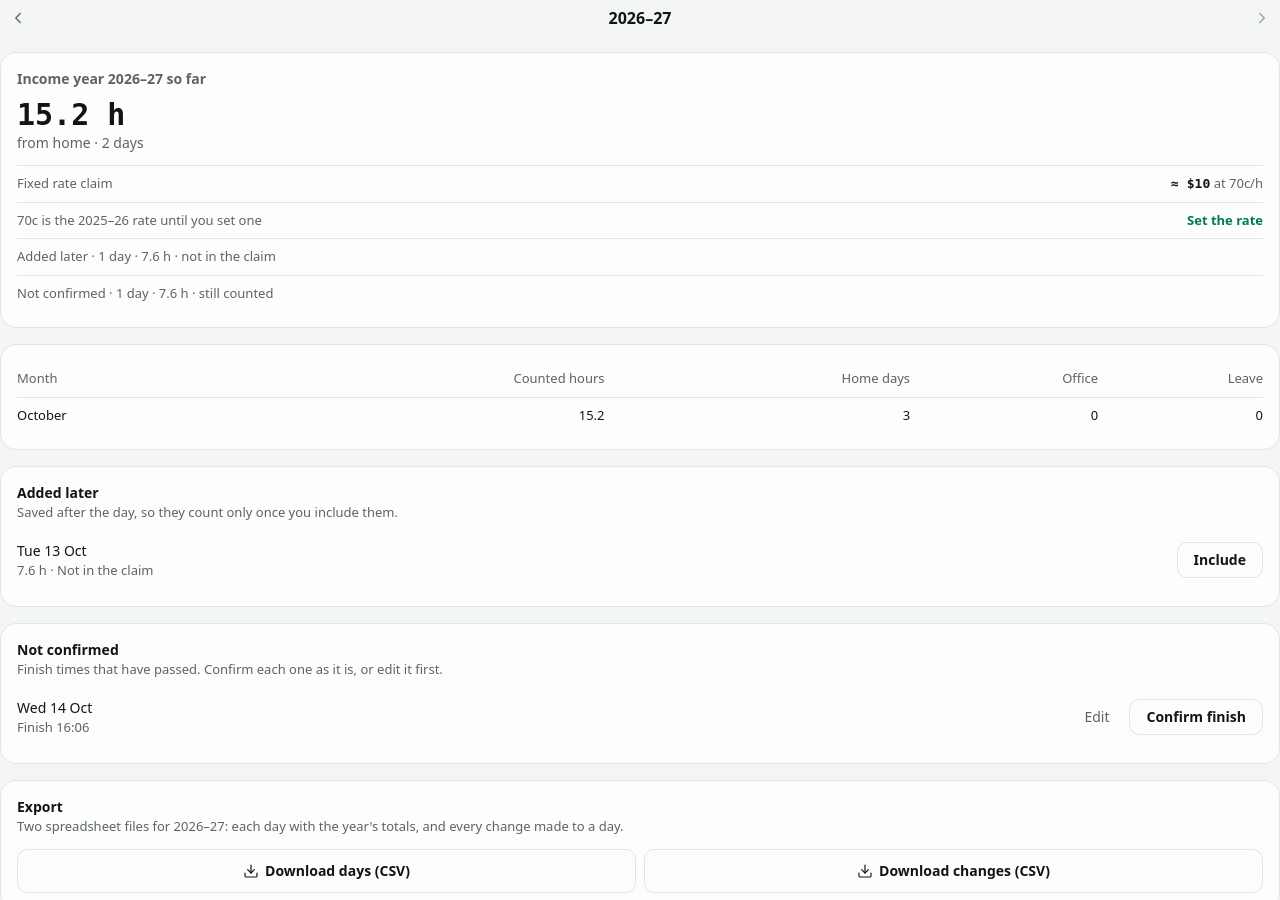
Test: YearTab › does not step back before 2020–21, the first year with a fixed rate
Click the button named "Previous income year". click: (18, 18)
box: x1=0 y1=0 x2=36 y2=36
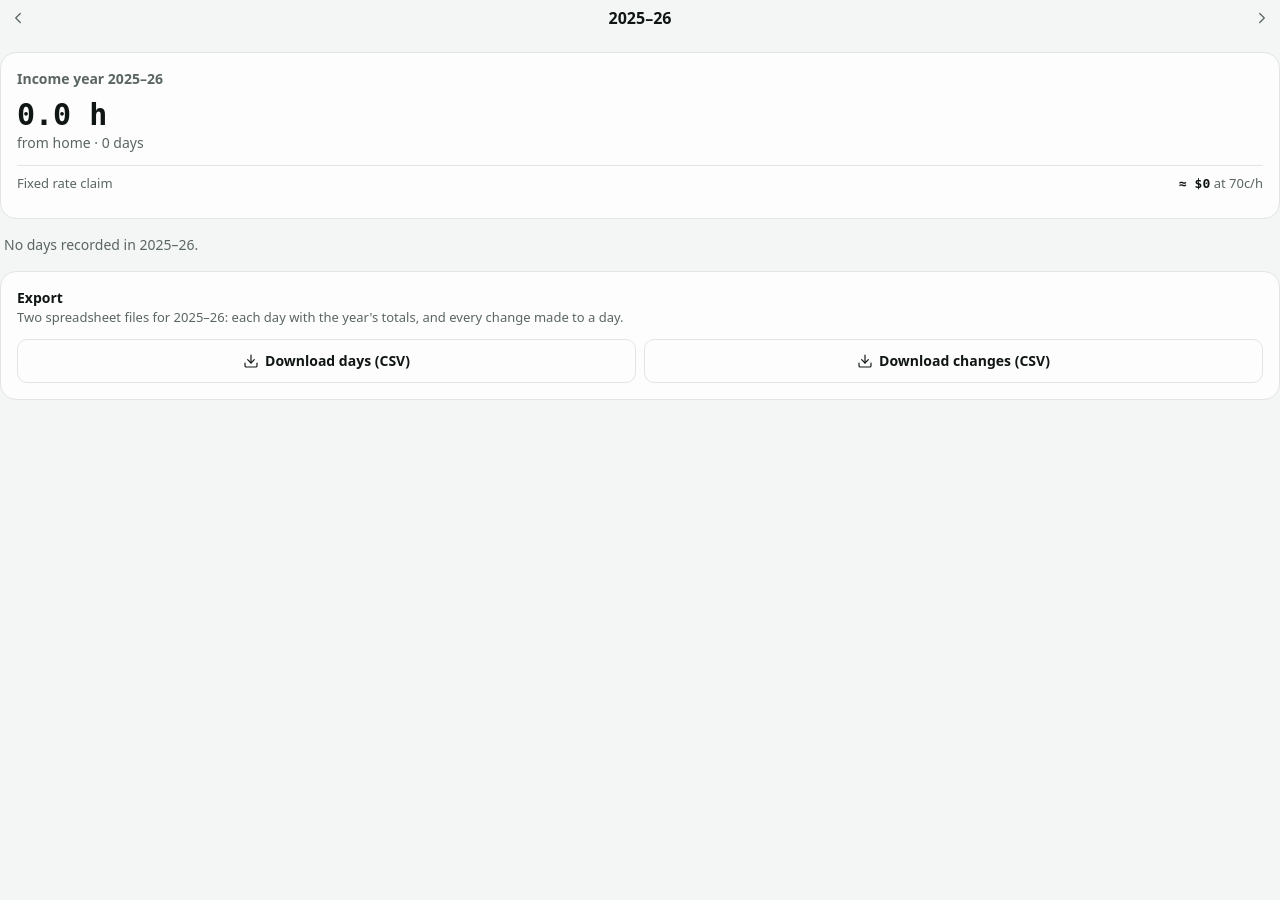
Click the button named "Previous income year". click: (18, 18)
box: x1=0 y1=0 x2=36 y2=36
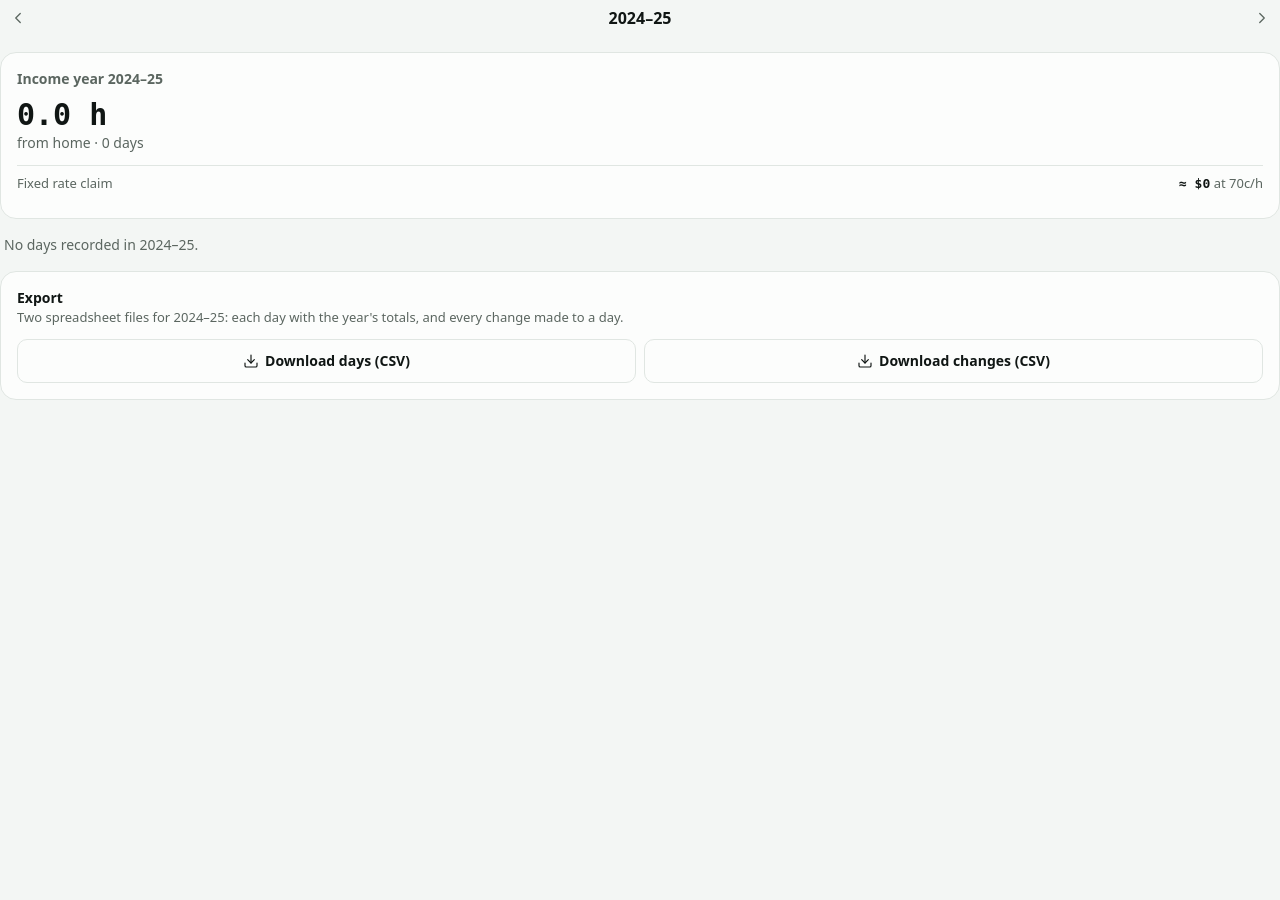
Click the button named "Previous income year". click: (18, 18)
box: x1=0 y1=0 x2=36 y2=36
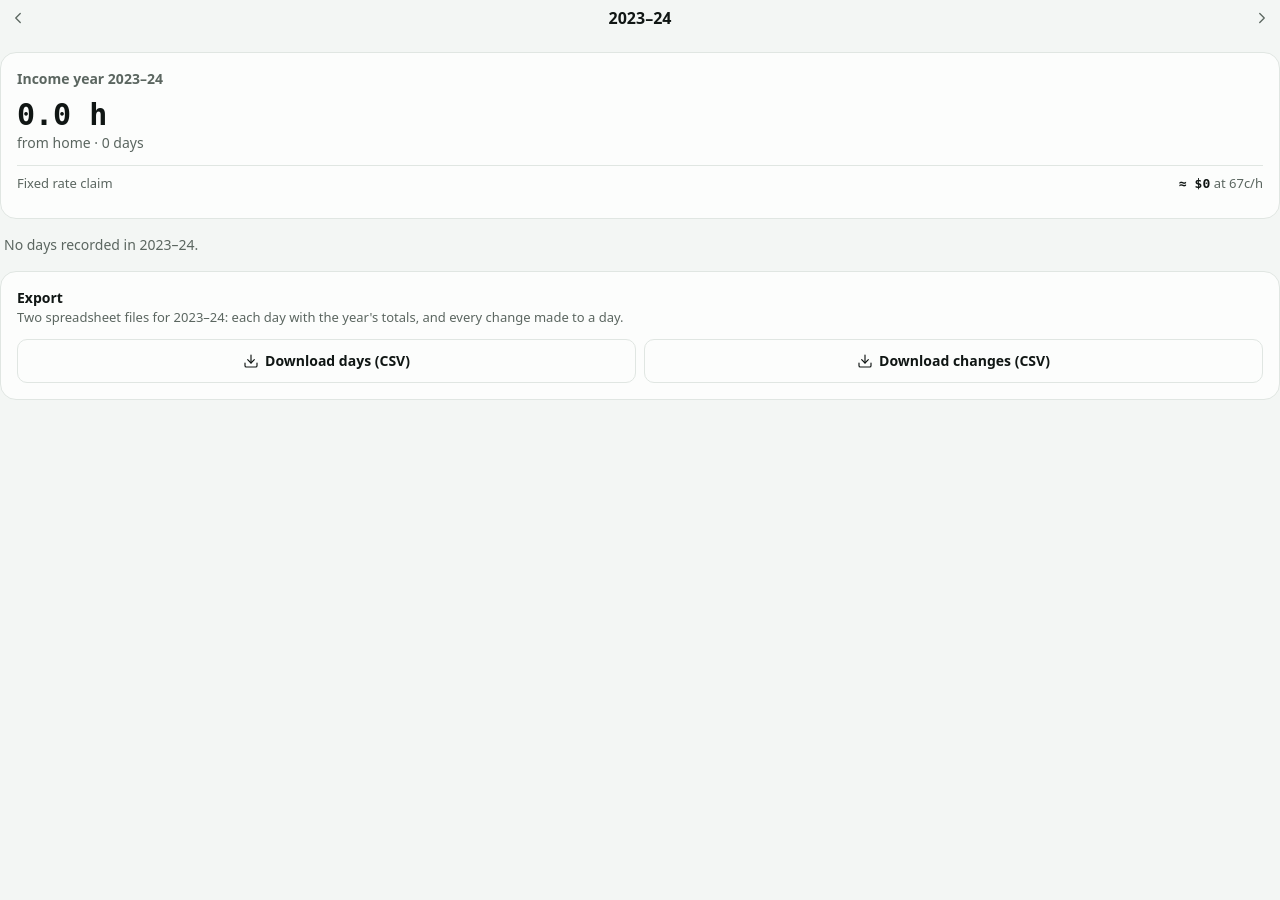
Click the button named "Previous income year". click: (18, 18)
box: x1=0 y1=0 x2=36 y2=36
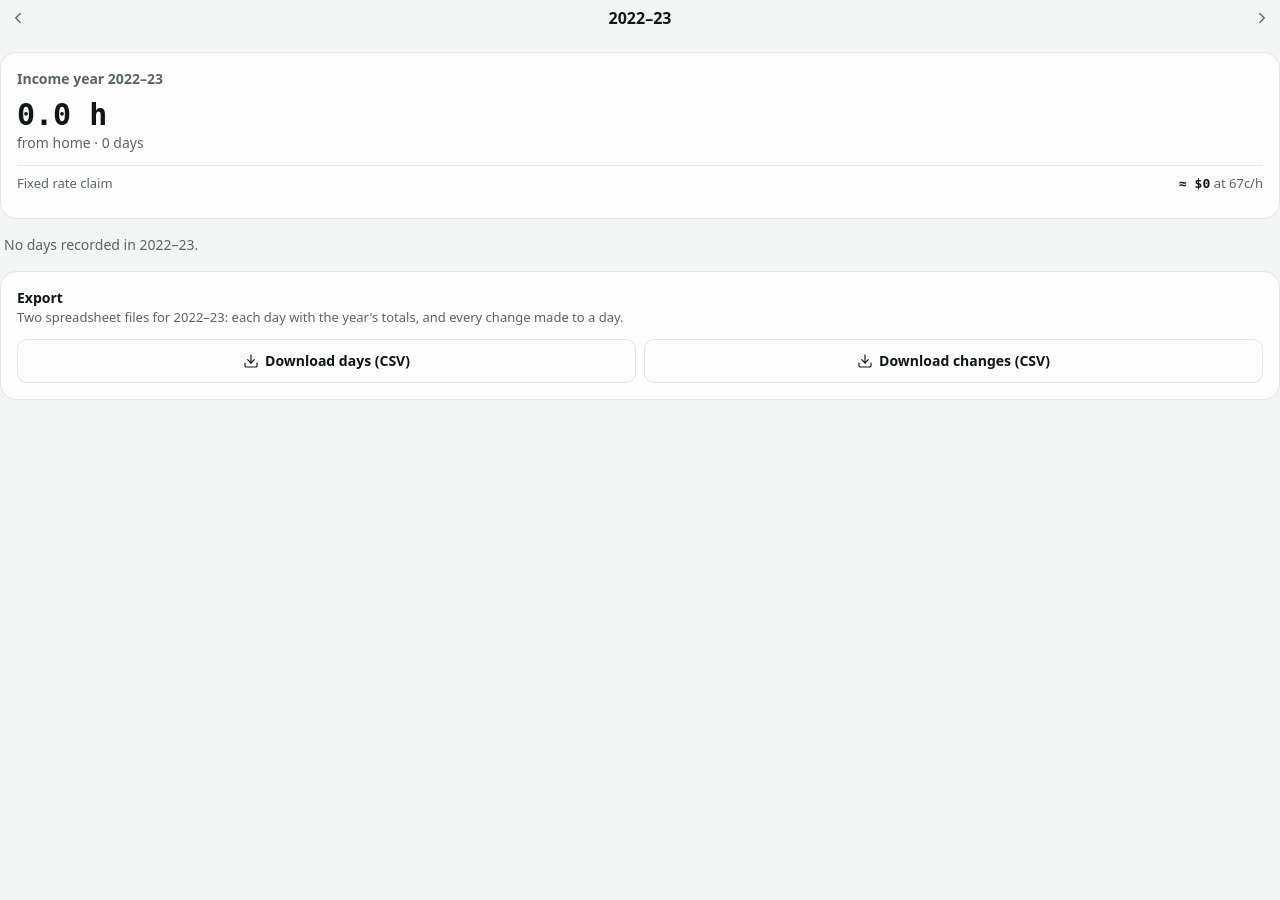
Click the button named "Previous income year". click: (18, 18)
box: x1=0 y1=0 x2=36 y2=36
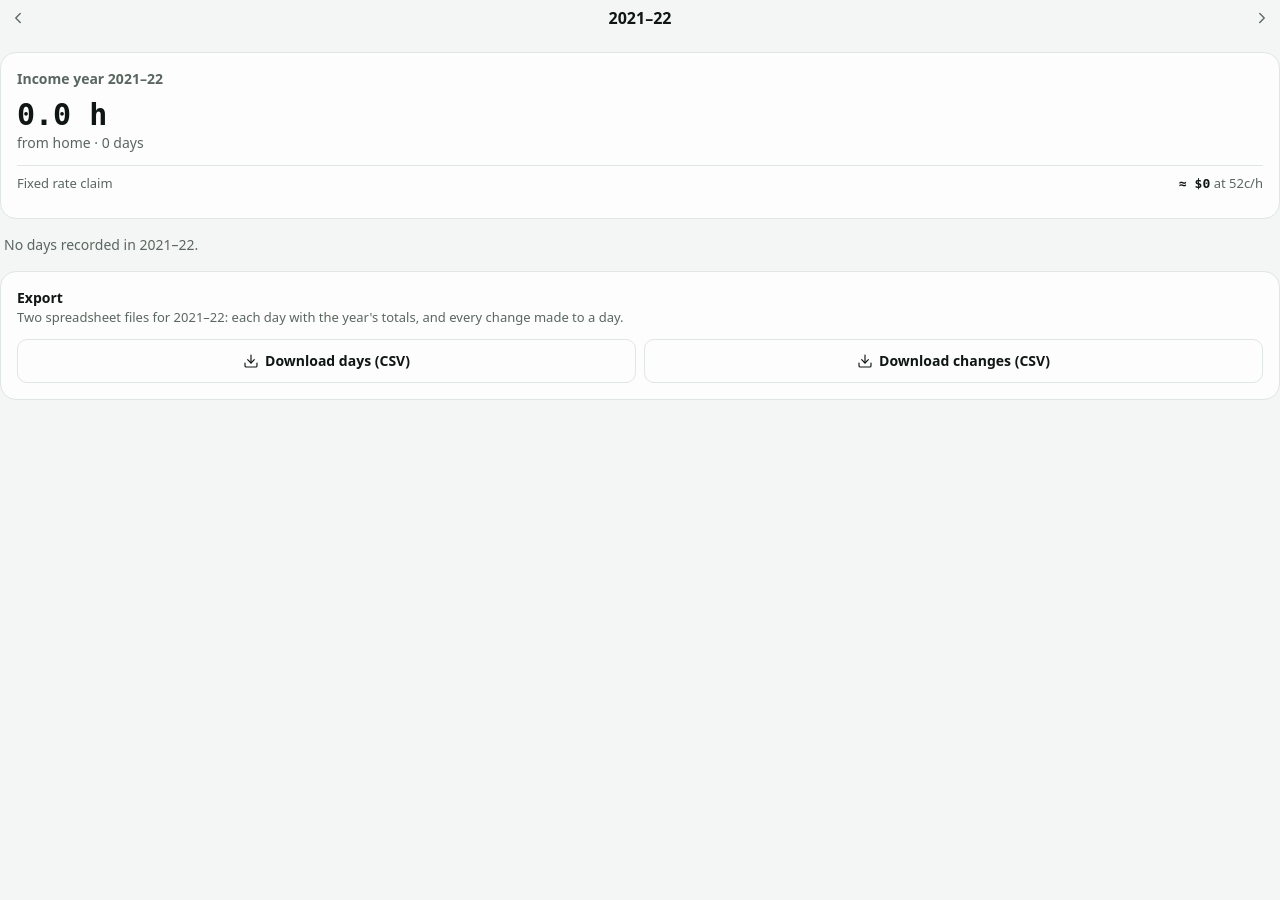
Click the button named "Previous income year". click: (18, 18)
box: x1=0 y1=0 x2=36 y2=36
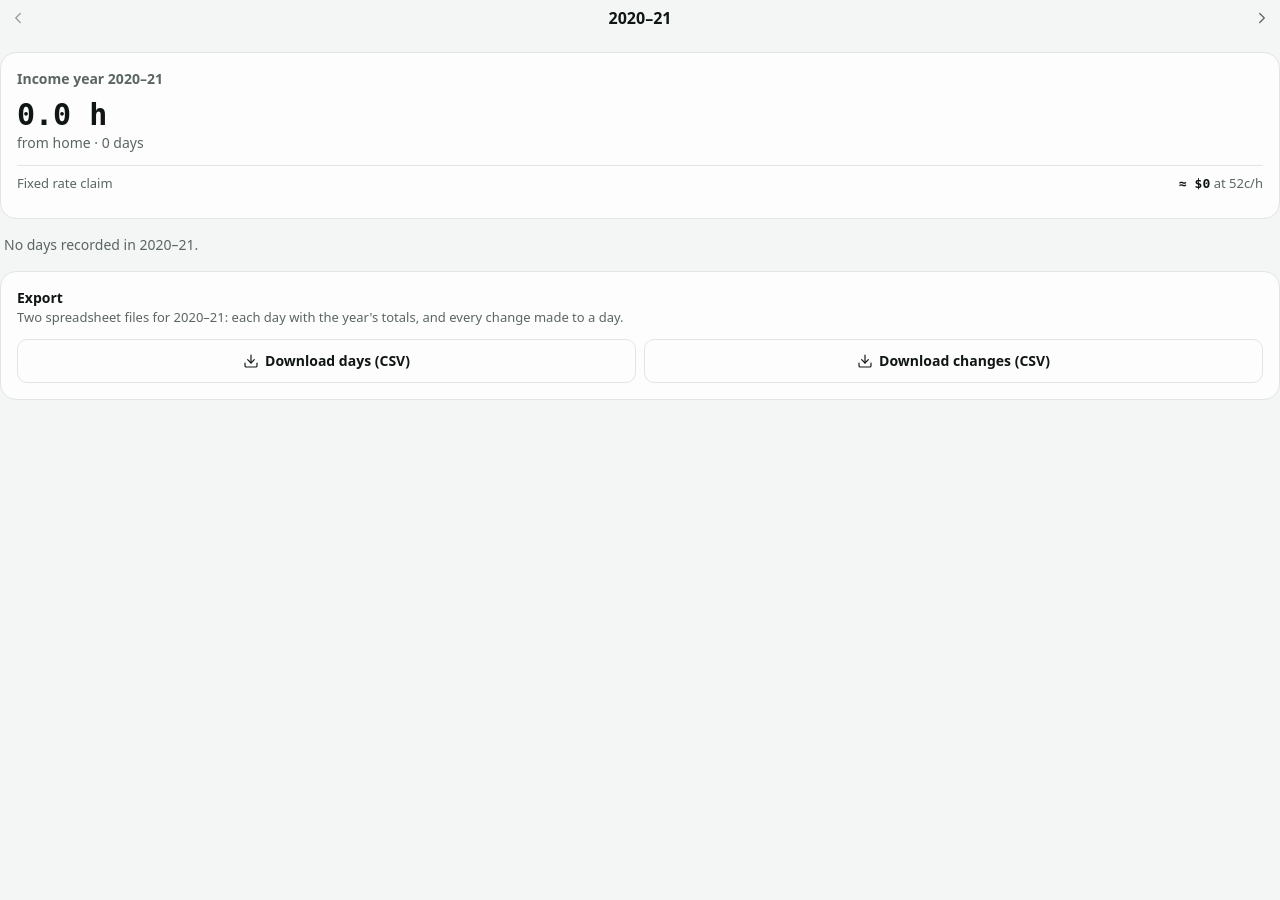
expect the heading "2020–21" is shown: met, box x1=608 y1=6 x2=671 y2=30
